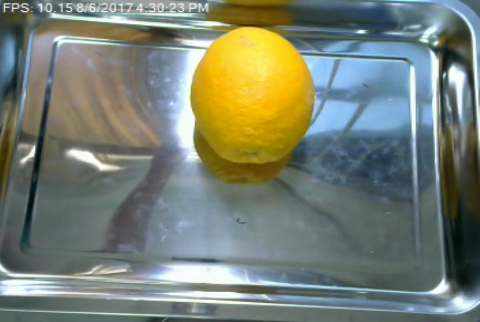Orange: (191, 26, 317, 161)
